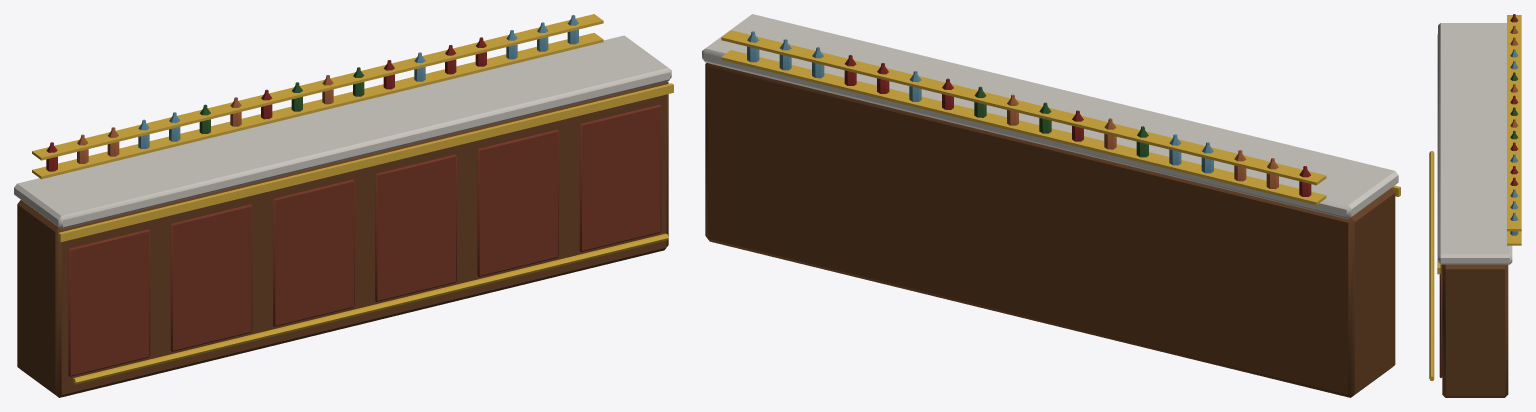
The model's file is 166_bar_marbre.fbx.
The picture shows the model from 3 angles, left to right: view 1: azimuth 30°, elevation 25°; view 2: azimuth 150°, elevation 25°; view 3: azimuth 270°, elevation 25°; orthographic projection. The views are drawn at different scales.
Parts seen in each view (by area): view 1: Comptoir, Etageres; view 2: Comptoir, Etageres; view 3: Comptoir, Etageres.
Part boxes in pixels (bbox=[...]): Comptoir: bbox=[14, 35, 673, 397]; Etageres: bbox=[32, 14, 603, 179]; Comptoir: bbox=[702, 14, 1400, 397]; Etageres: bbox=[721, 30, 1326, 205]; Comptoir: bbox=[1429, 23, 1512, 397]; Etageres: bbox=[1507, 14, 1521, 245].
Bounding box in the file's own units: 3.36 × 1.12 × 0.56.
Materials: 1 (1 with a texture image).
